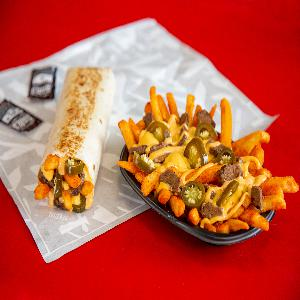fries: (120, 91, 295, 236)
